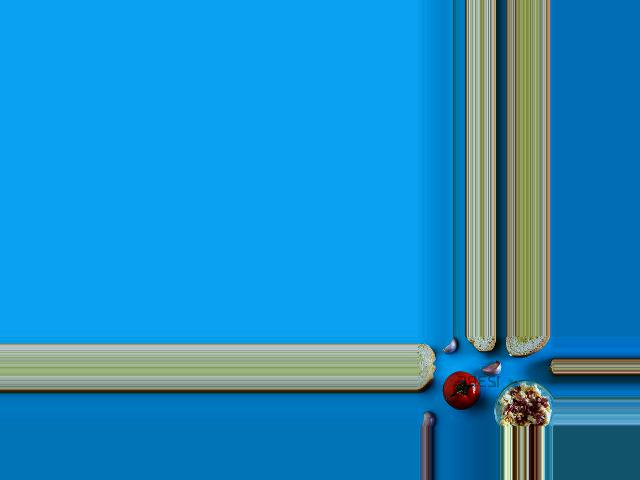tomato: (442, 371, 478, 410)
